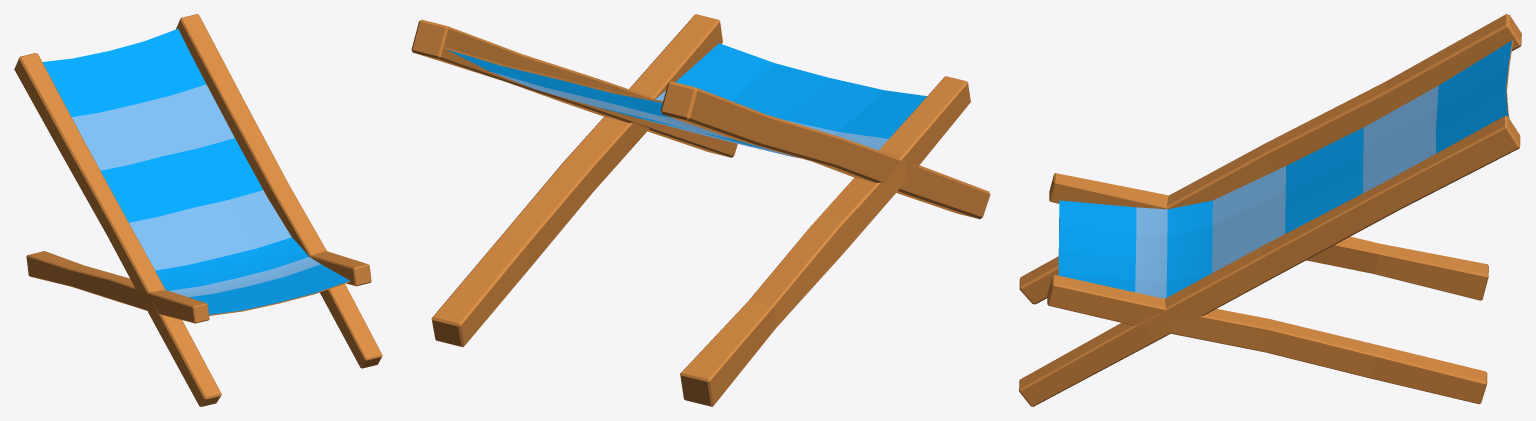
Rendered from Sunbed.fbx.
3 views of the same model, side by side, from view 1: azimuth 30°, elevation 25°; view 2: azimuth 150°, elevation 25°; view 3: azimuth 270°, elevation 25° (orthographic). The views are drawn at different scales.
Visible parts, largest first — view 1: Sunbed; view 2: Sunbed; view 3: Sunbed.
Boxes of the visible parts, x1,y1,x2,y2 form: Sunbed: (14, 14, 382, 406); Sunbed: (411, 14, 990, 406); Sunbed: (1019, 14, 1521, 406).
Size of the model in its own units: 107 by 123 by 198.
